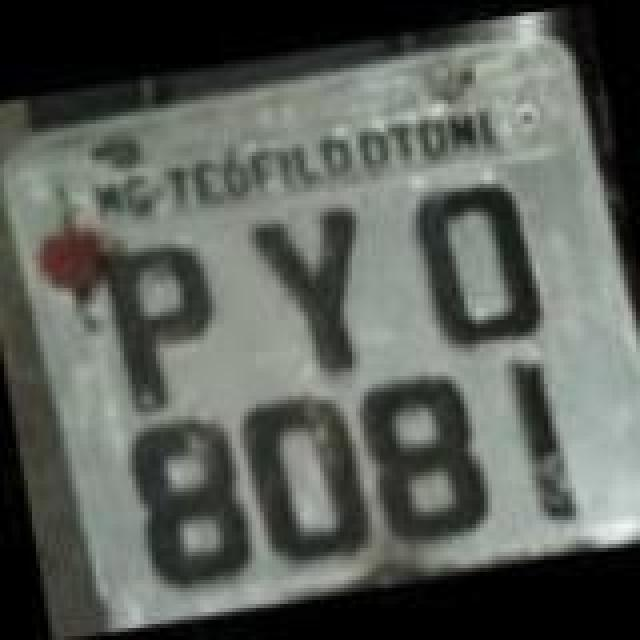1: (504, 354, 588, 526)
8: (116, 404, 268, 596), (354, 362, 498, 550)
O: (402, 166, 554, 362), (230, 380, 382, 568)
P: (90, 230, 230, 414)
Y: (240, 196, 384, 384)
